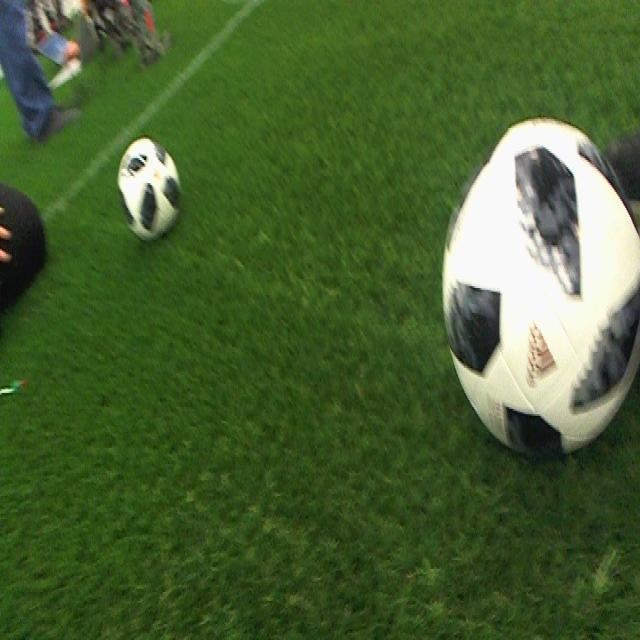ball: (440, 116, 640, 462), (116, 137, 182, 243)
